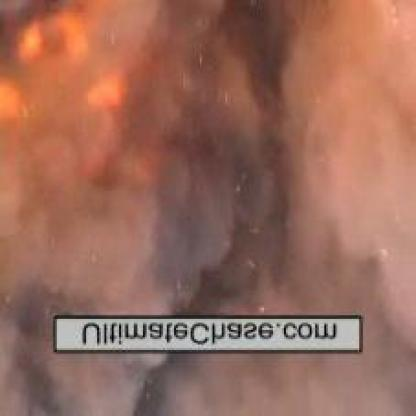smoke: (2, 5, 409, 384)
